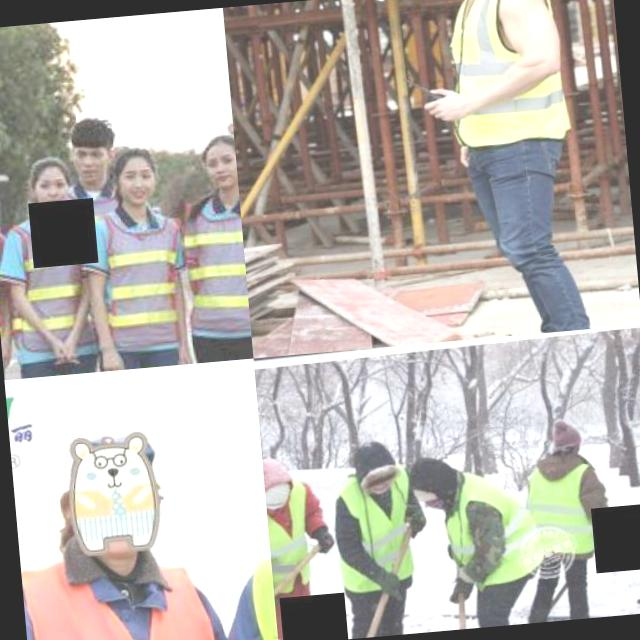vest: (20, 552, 210, 640), (446, 0, 559, 145), (87, 210, 192, 348), (0, 216, 95, 356), (438, 471, 535, 594), (328, 471, 418, 592), (176, 206, 249, 316), (524, 457, 599, 562), (264, 477, 317, 586)
